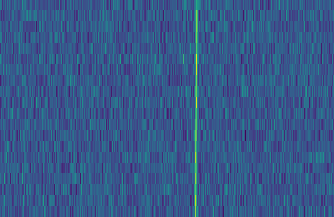signal: (190, 0, 201, 217)
